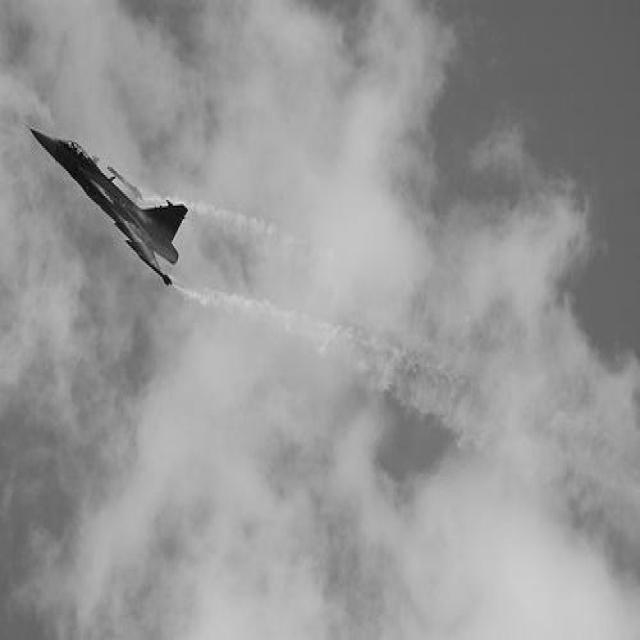aeroplane: (27, 121, 188, 283)
